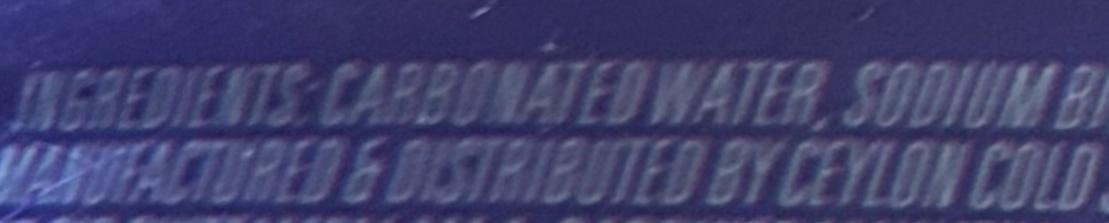ingredients: (11, 29, 1109, 223)
